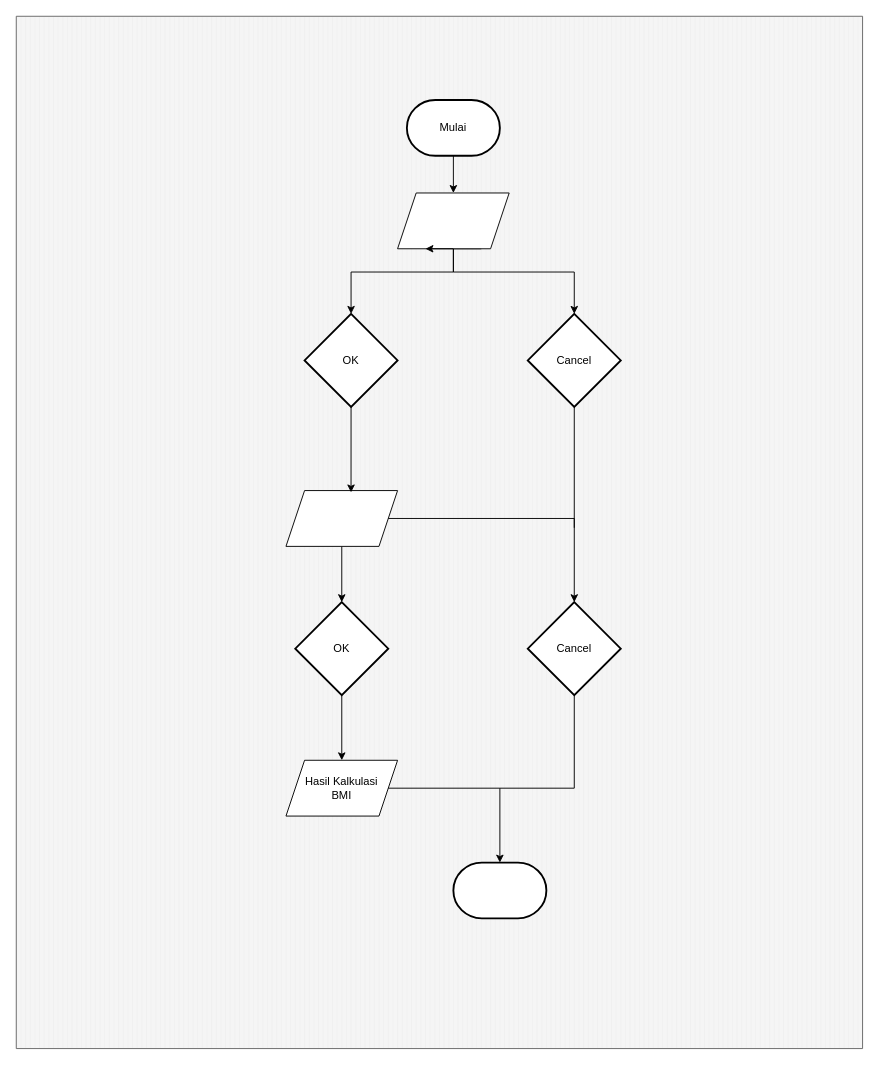
Image size: 879x1065. Some labels were removed from this diagram. The shapes that lost their labels are listed below. From the top down, each one's centre as x and y in pixels, then its label:
the point at 453,220: Masukan Berat Badann
the point at 341,518: Masukan Tinggi Badan
the point at 499,890: Selesai
